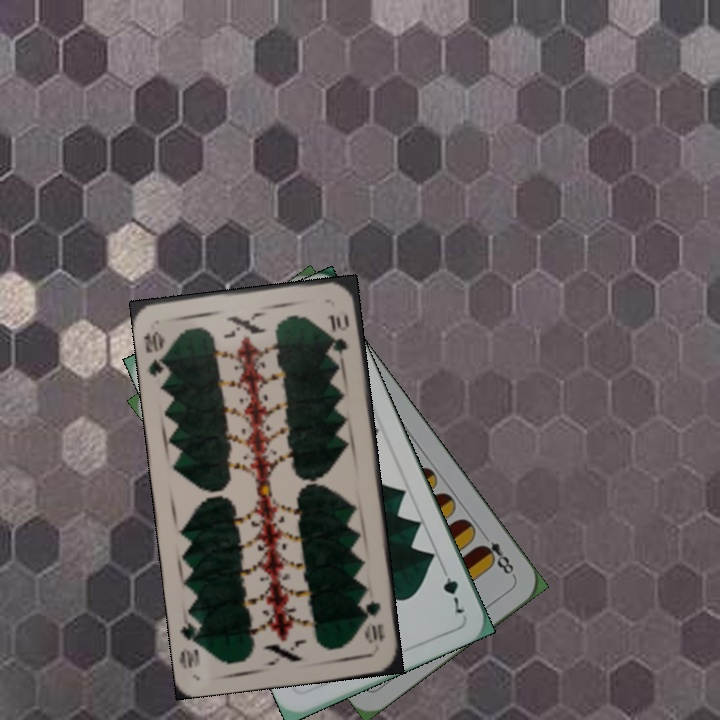E8: (475, 528, 518, 580)
G10: (140, 327, 173, 382), (360, 596, 387, 646)
G7: (436, 561, 470, 617)
